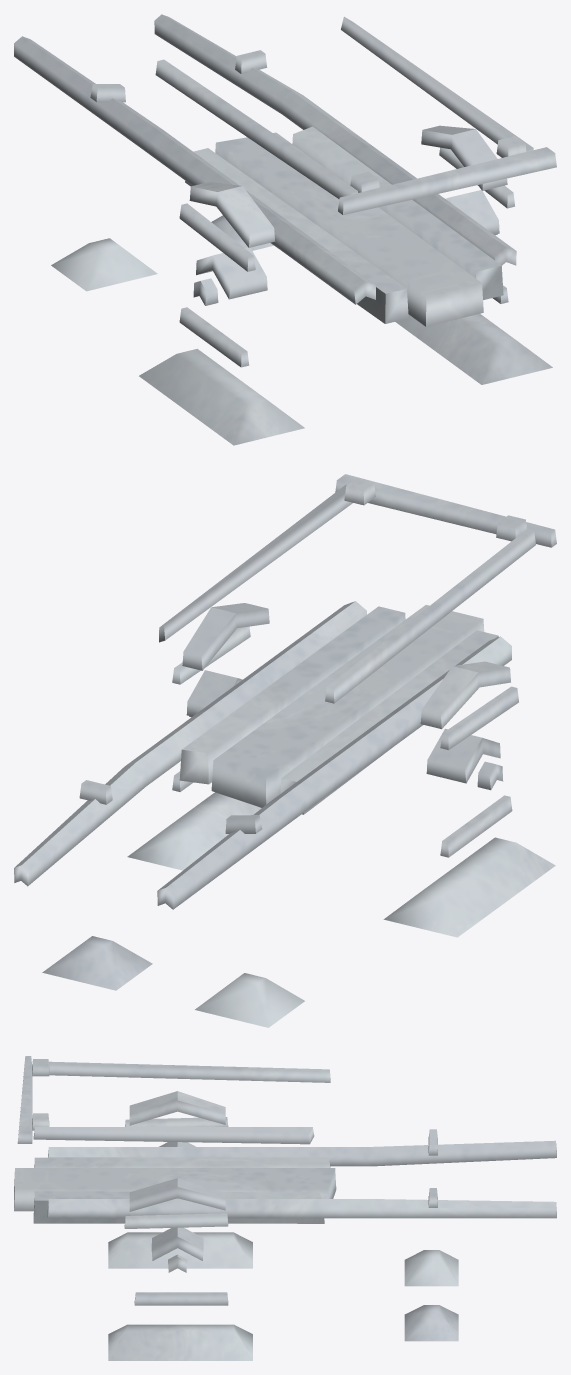
Rendered from Cart_Snow.fbx.
3 renders of one model, top to bottom at view 1: azimuth 30°, elevation 25°; view 2: azimuth 150°, elevation 25°; view 3: azimuth 270°, elevation 25°, orthographic. The views are drawn at different scales.
Visible parts, largest first — view 1: Cart_Snow; view 2: Cart_Snow; view 3: Cart_Snow.
Boxes of the visible parts, bbox=[...] form: Cart_Snow: bbox=[14, 14, 556, 445]; Cart_Snow: bbox=[14, 474, 556, 1027]; Cart_Snow: bbox=[14, 1056, 556, 1360].
Bounding box in the file's own units: 140 × 117 × 271.
